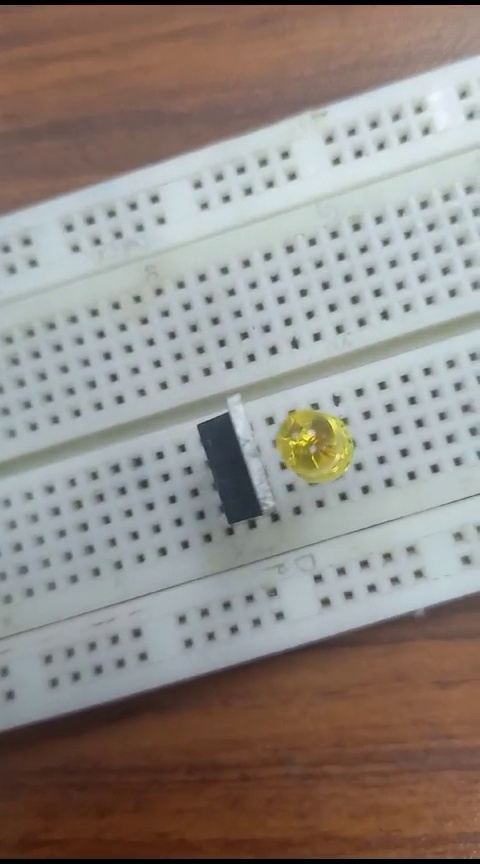LED: (283, 395, 348, 487)
voltage regulator: (180, 396, 276, 539)
